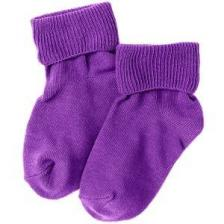purple: (24, 2, 204, 221), (25, 52, 119, 199)
